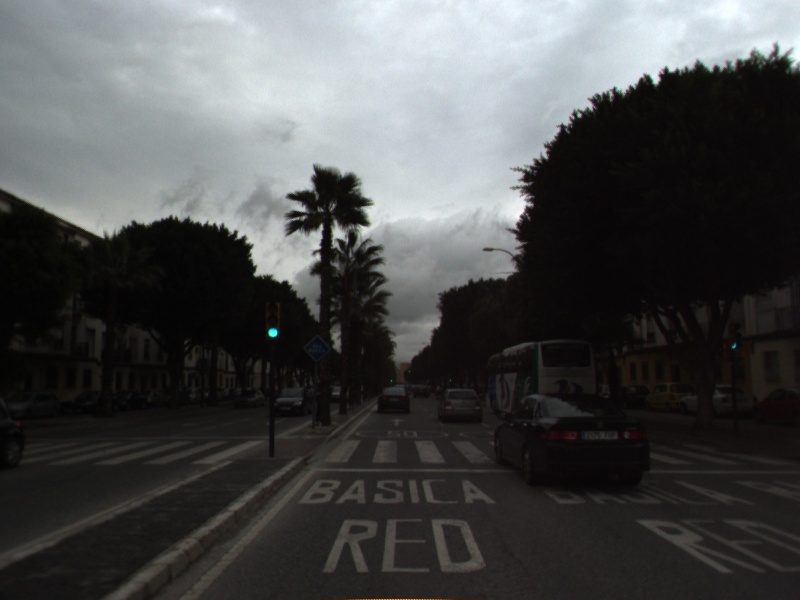STRAIGHT: (388, 416, 407, 428)
